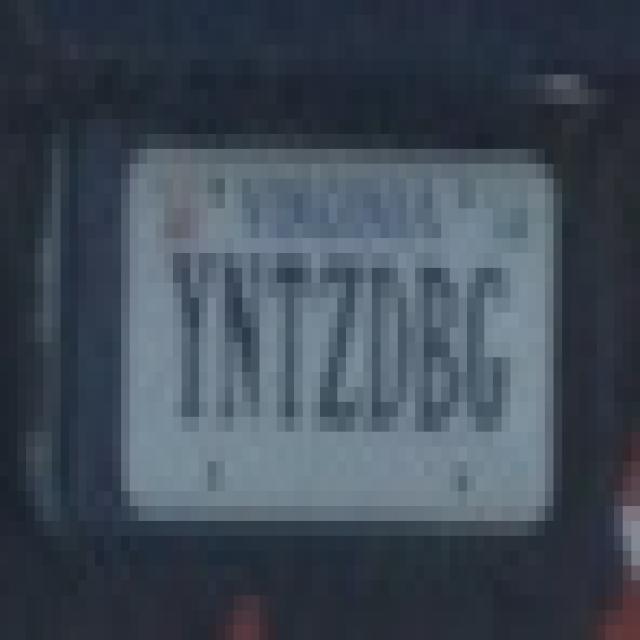B: (412, 237, 462, 452)
D: (364, 234, 410, 462)
G: (460, 237, 510, 462)
N: (213, 224, 264, 439)
T: (270, 236, 314, 444)
Y: (166, 233, 222, 438)
Z: (315, 240, 363, 454)
